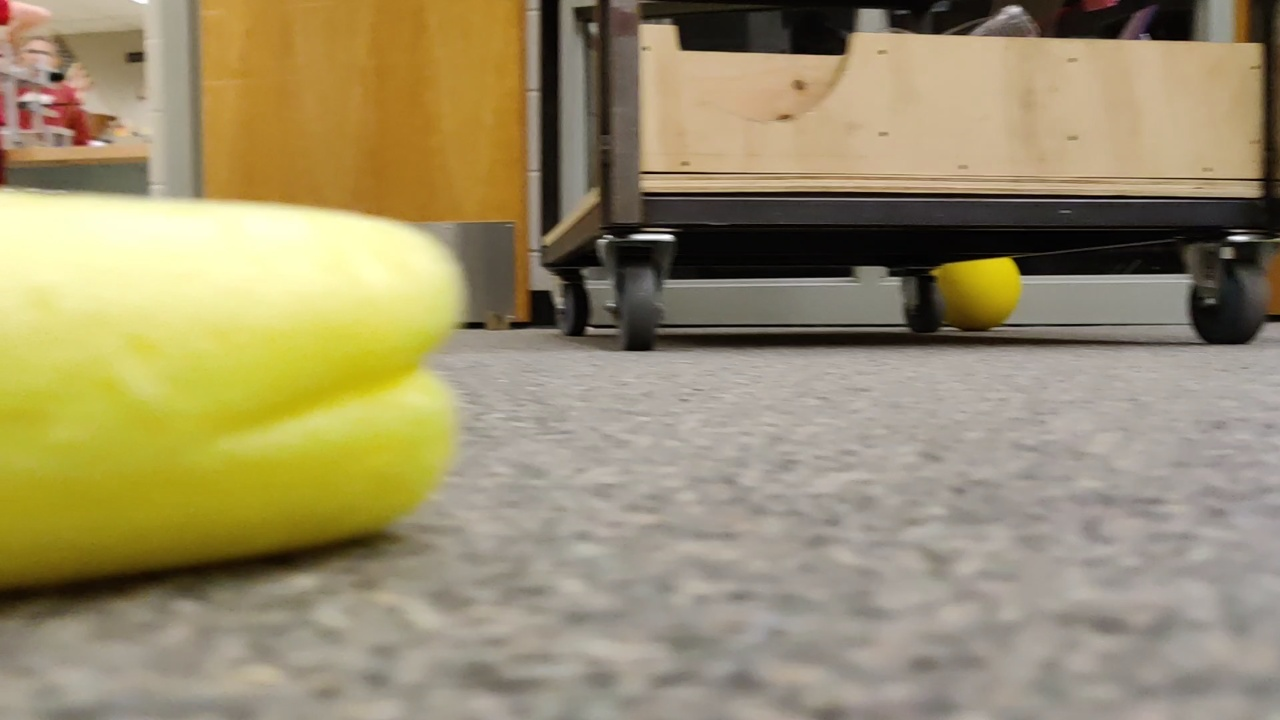Ball: (936, 257, 1028, 326)
